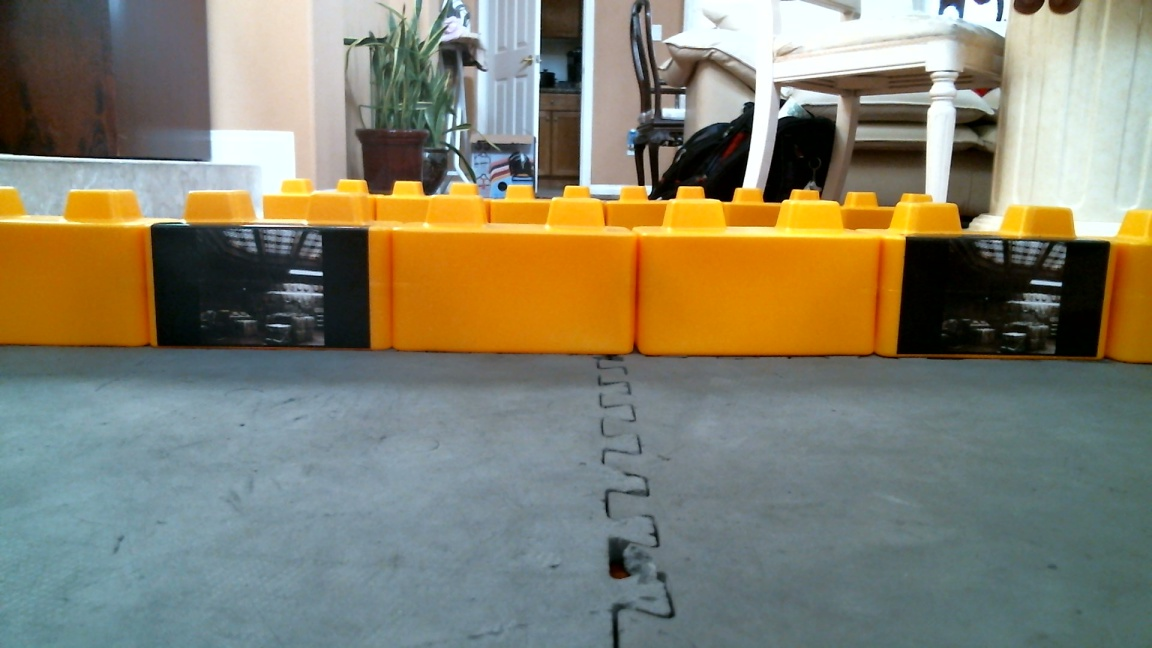skystone: (144, 189, 396, 354), (879, 202, 1112, 358)
stone: (391, 193, 636, 357), (636, 199, 878, 356), (1, 184, 149, 351), (1104, 206, 1152, 365)
